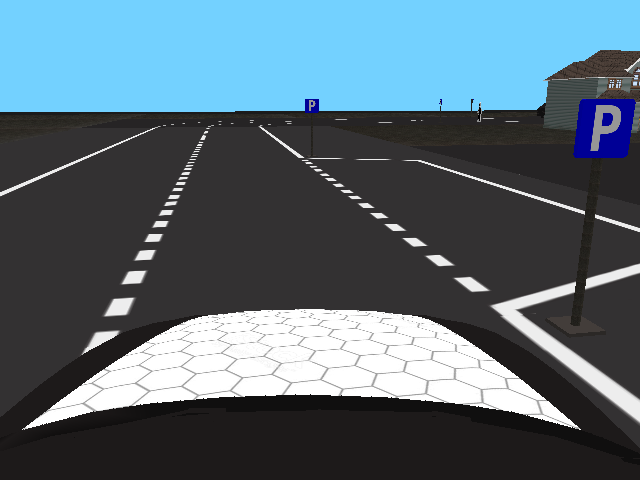parking: (575, 98, 636, 158), (305, 99, 320, 114)
